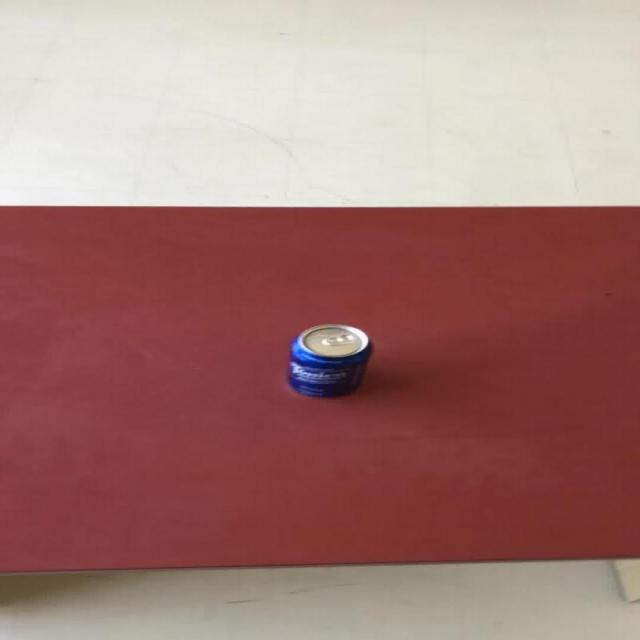Tonic: (285, 322, 372, 398)
